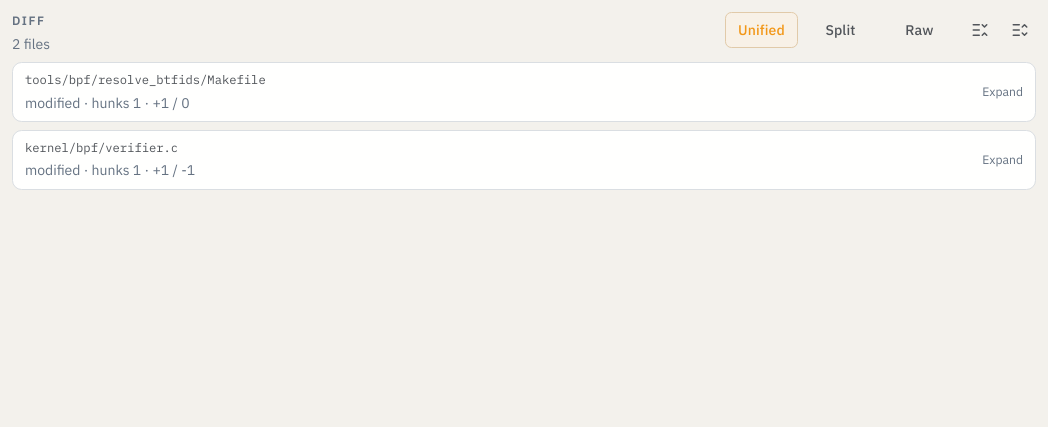
Test: MessageDiffViewer › renders a single unified line-number gutter
Click the button with aria-label "Toggle file diff card: tools/bpf/resolve_btfids/Makefile". click: (145, 79)
box: x1=25 y1=71 x2=1023 y2=113
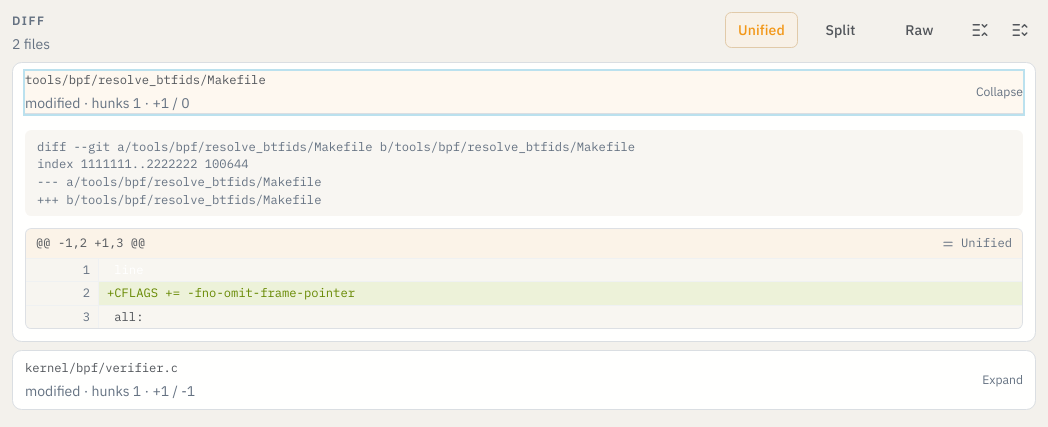
expect the element with class "message-diff-unified-row" showing "1 line" is shown: met, box x1=26 y1=259 x2=1022 y2=281
